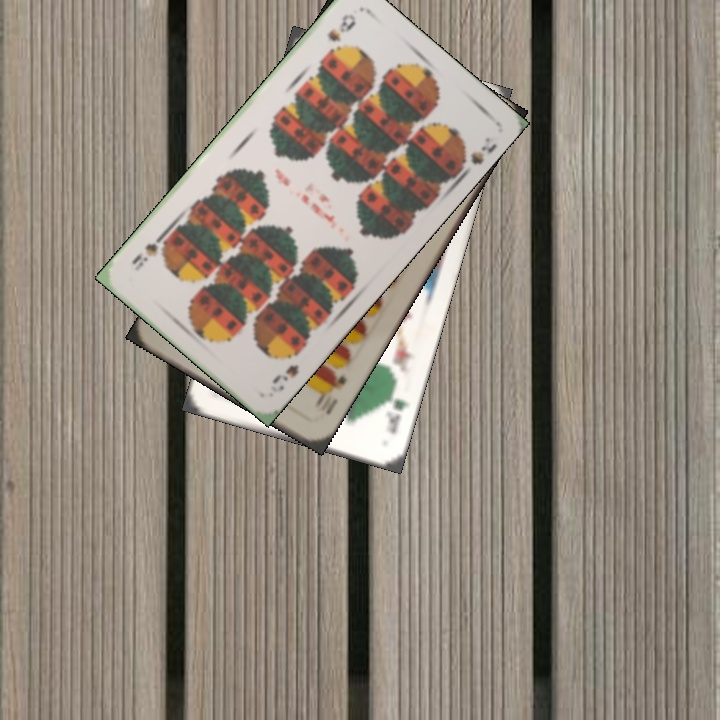E10: (311, 367, 349, 418)
GK: (381, 383, 412, 437)
S9: (268, 344, 305, 387), (323, 9, 359, 45)
